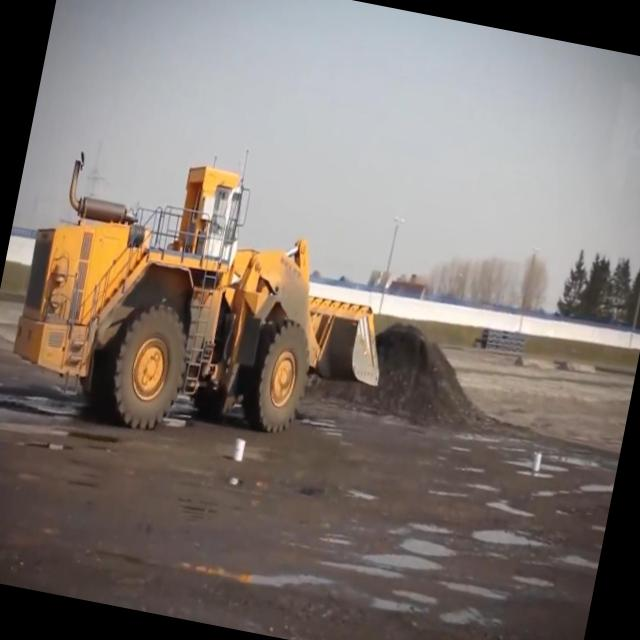pala cargadora: (0, 126, 414, 475)
